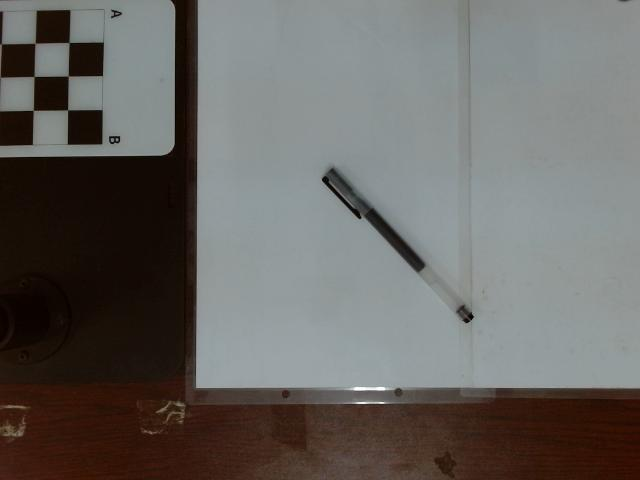PEN: (319, 166, 477, 327)
